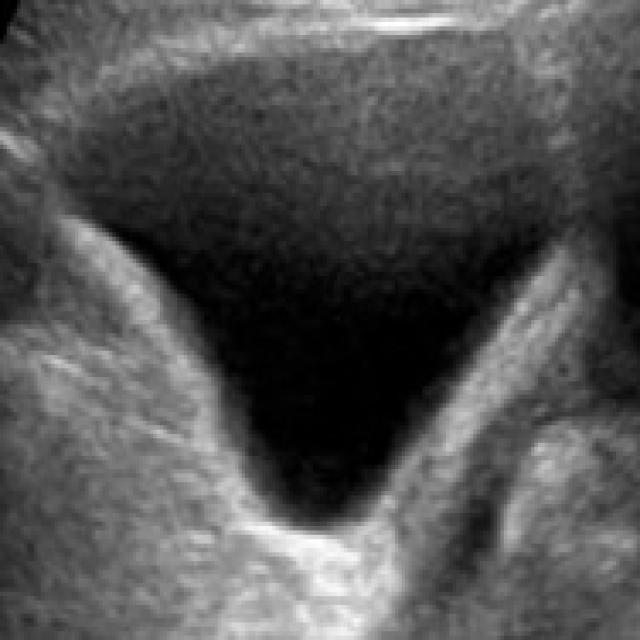bladder: (41, 0, 585, 604)
